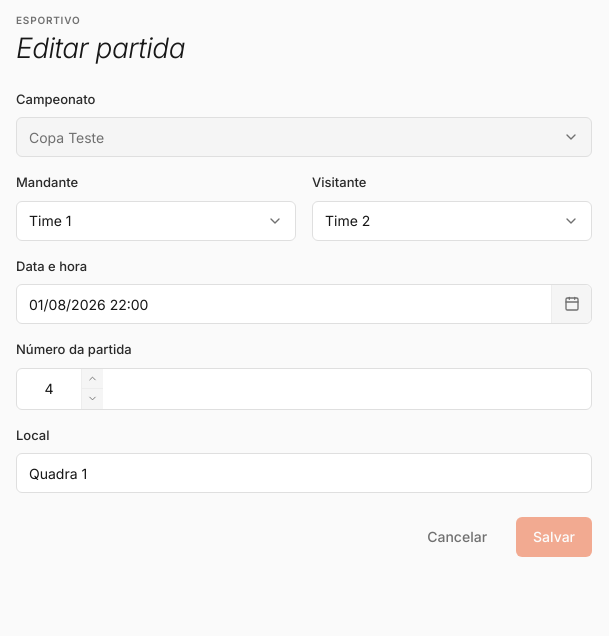
MatchFormPage edit › shows the field-level message from a VALIDATION_ERROR next to the field
The width and height of the screenshot is (609, 636).
In the field labelled "Local": (304, 473) [16,453,592,493], type " extra"
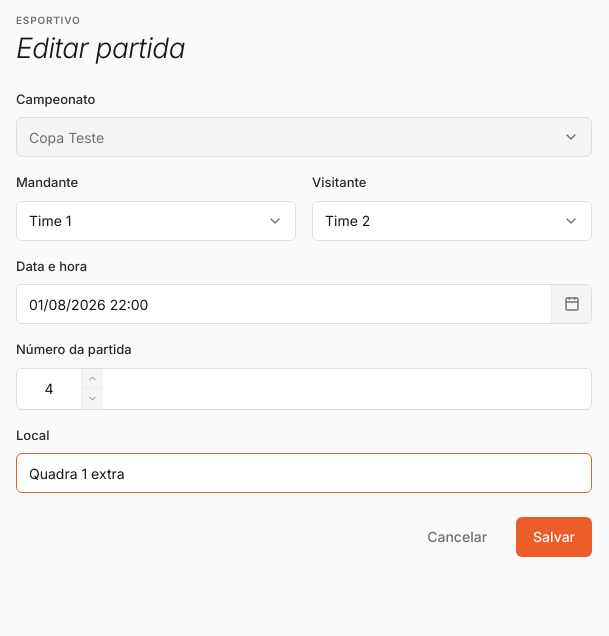
Click the button "Salvar": (554, 537) [516,517,592,557]
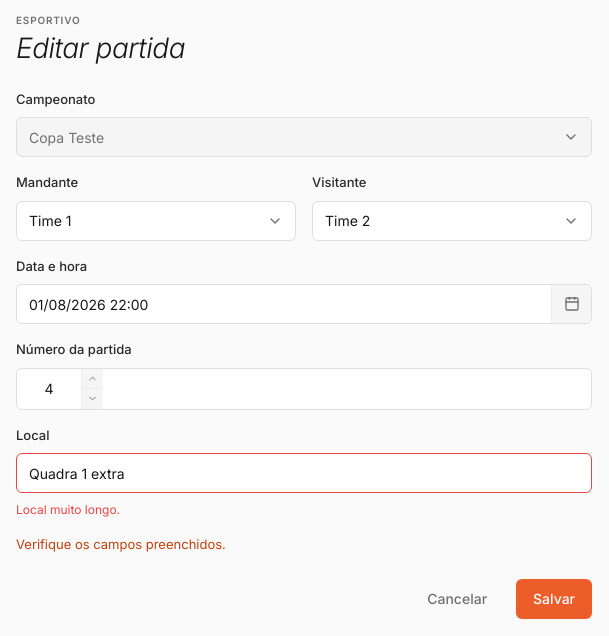
expect the text "Local muito longo." is shown: met, box [16,502,120,517]
